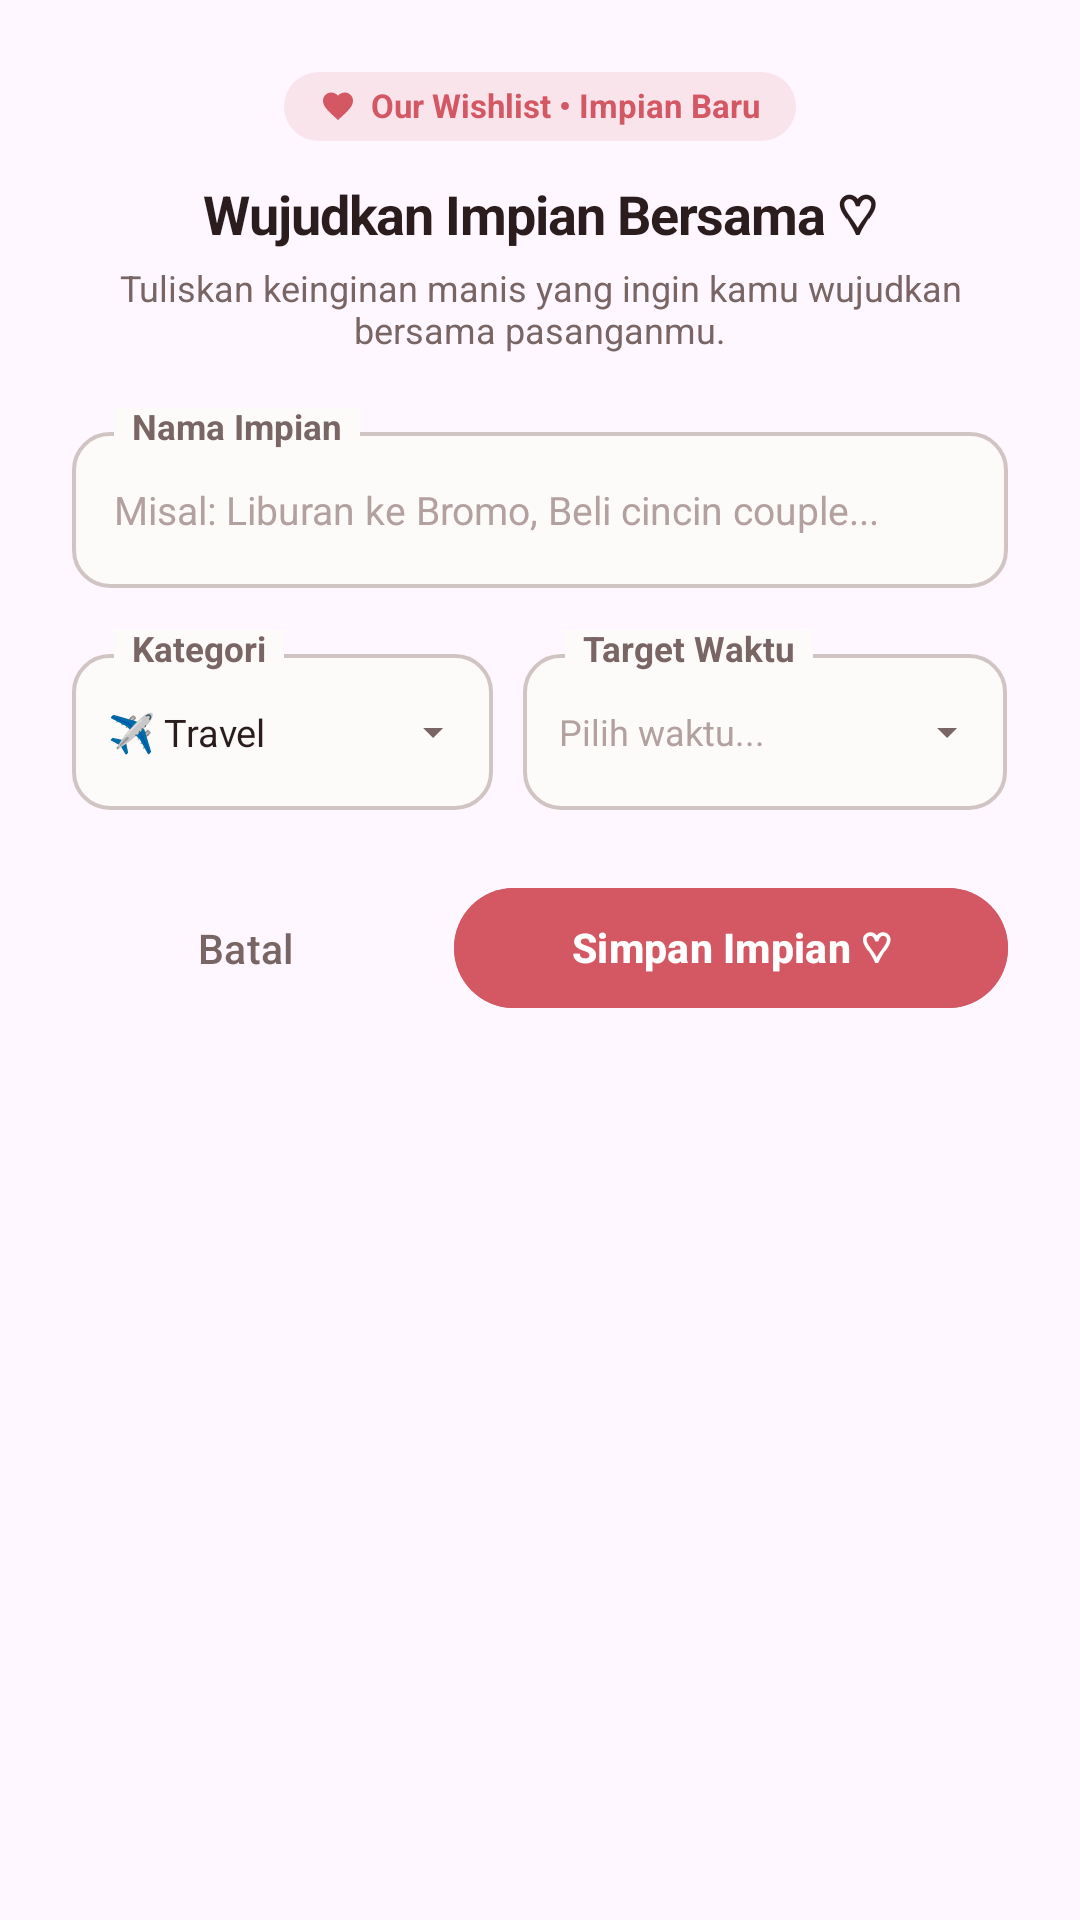

Locate icon controls on the screen. Image size 1080px×1920px, boxes as (x1, y1, x2, y2).
heart: (323, 92, 353, 120)
